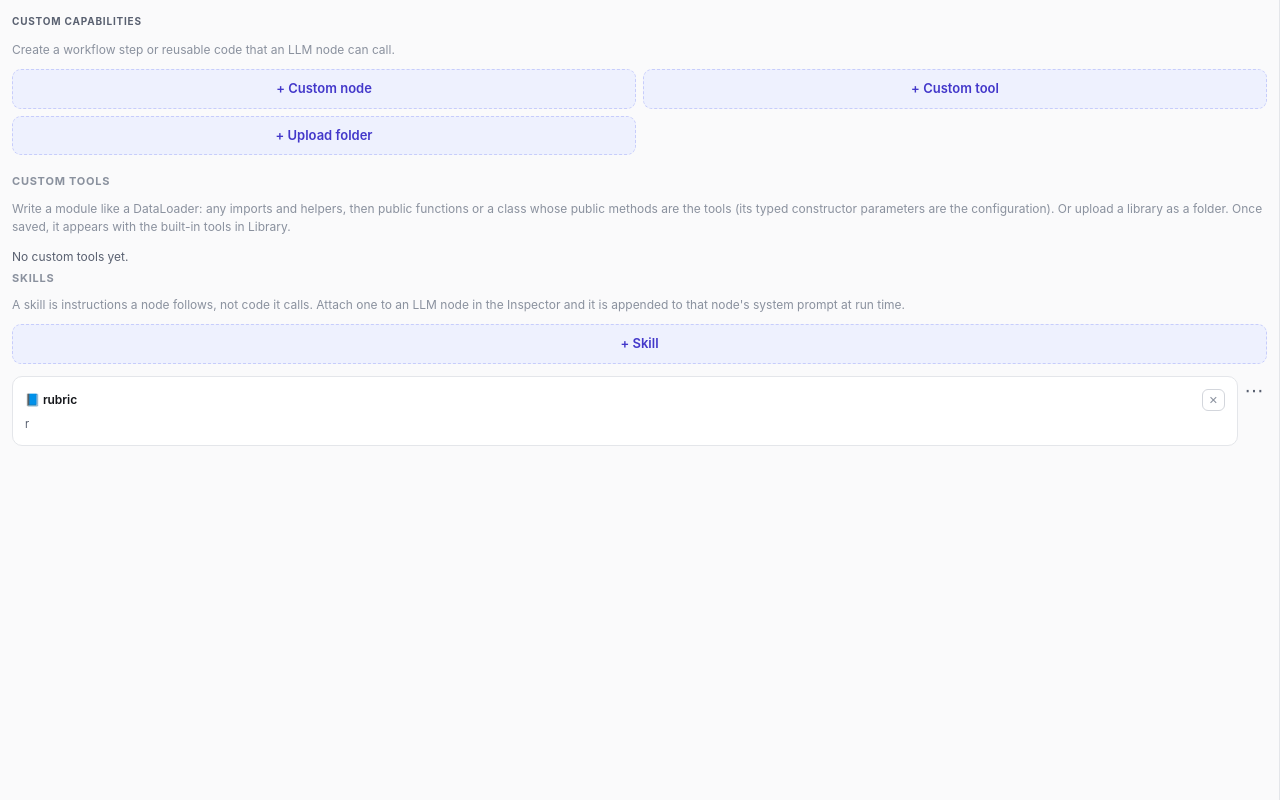
Test: deleting a skill › sends one delete however often it is clicked, and the skill leaves the list
Click the button titled "Delete skill" at (1213, 400), box [1202,388,1225,411]
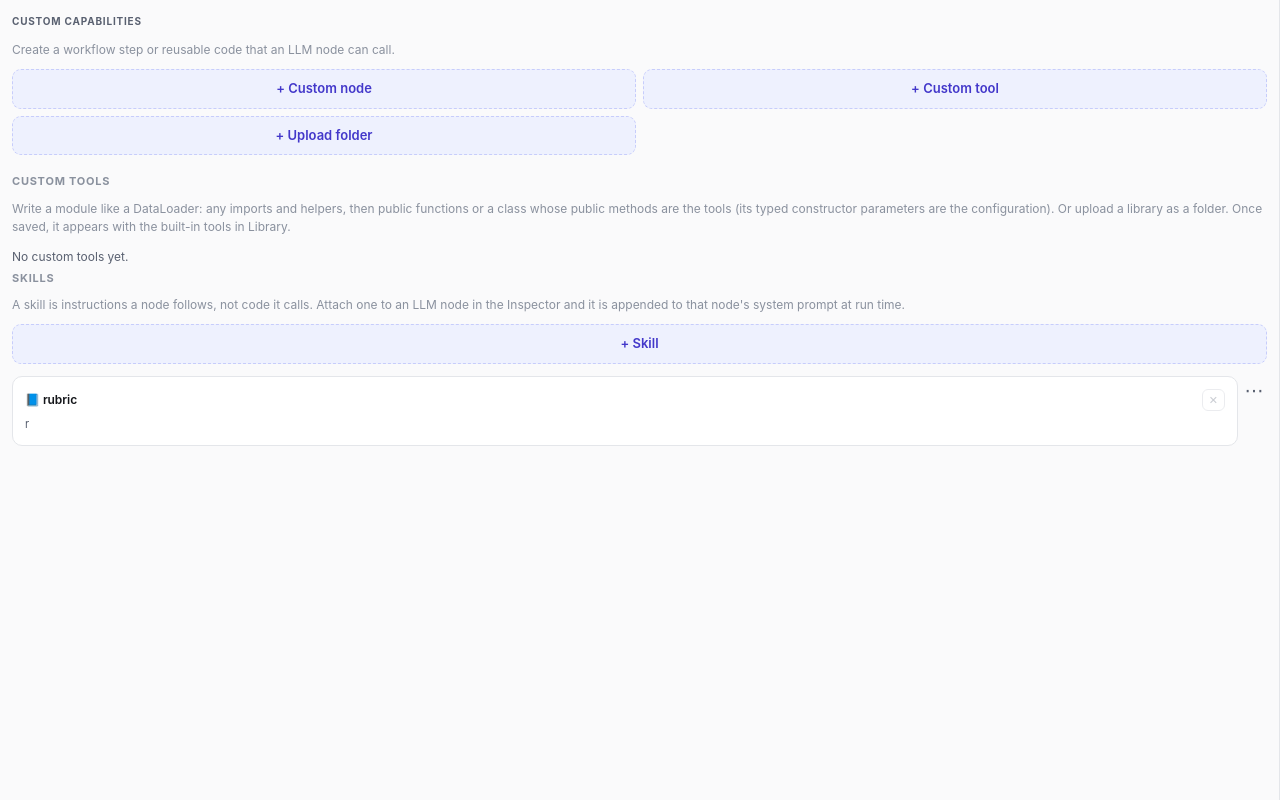
Expected: the button titled "Delete skill" is disabled
Click the button titled "Delete skill" at (1213, 400), box [1202,388,1225,411]
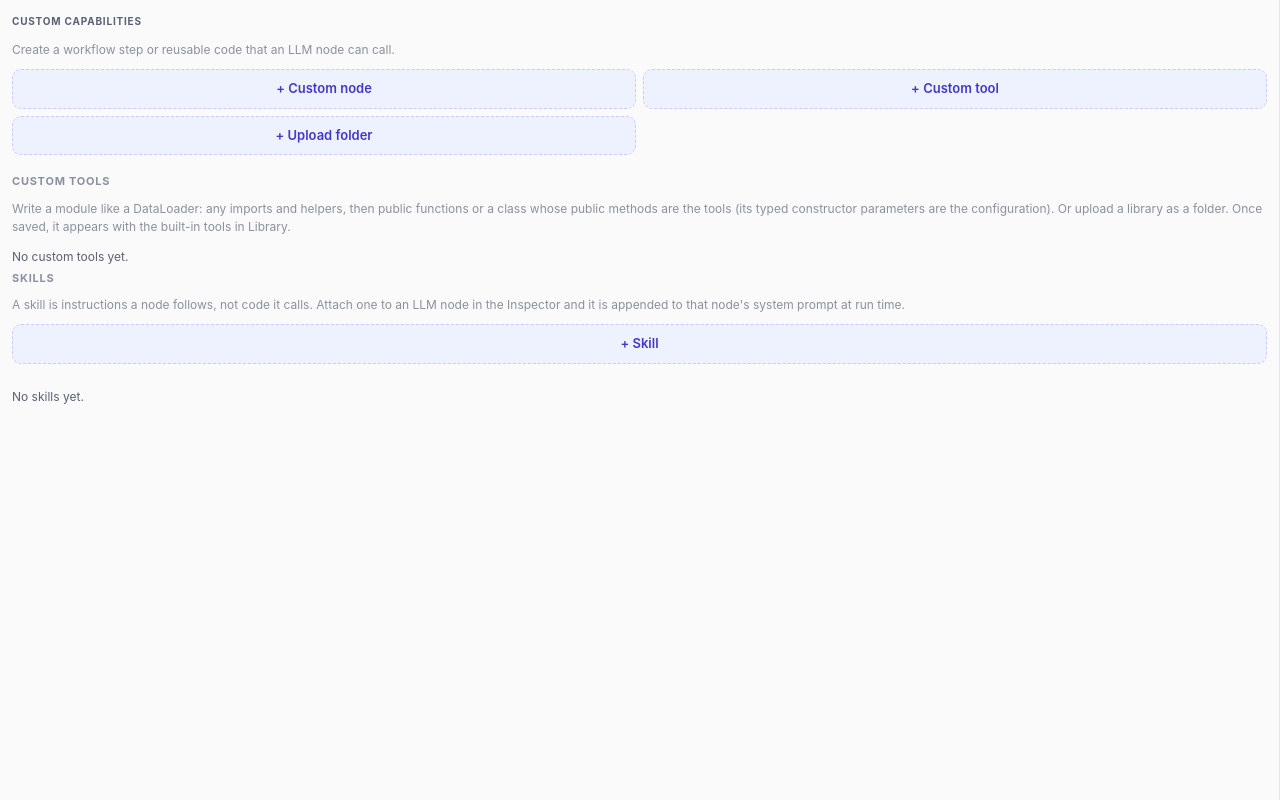
Expected: the text "rubric" is gone
